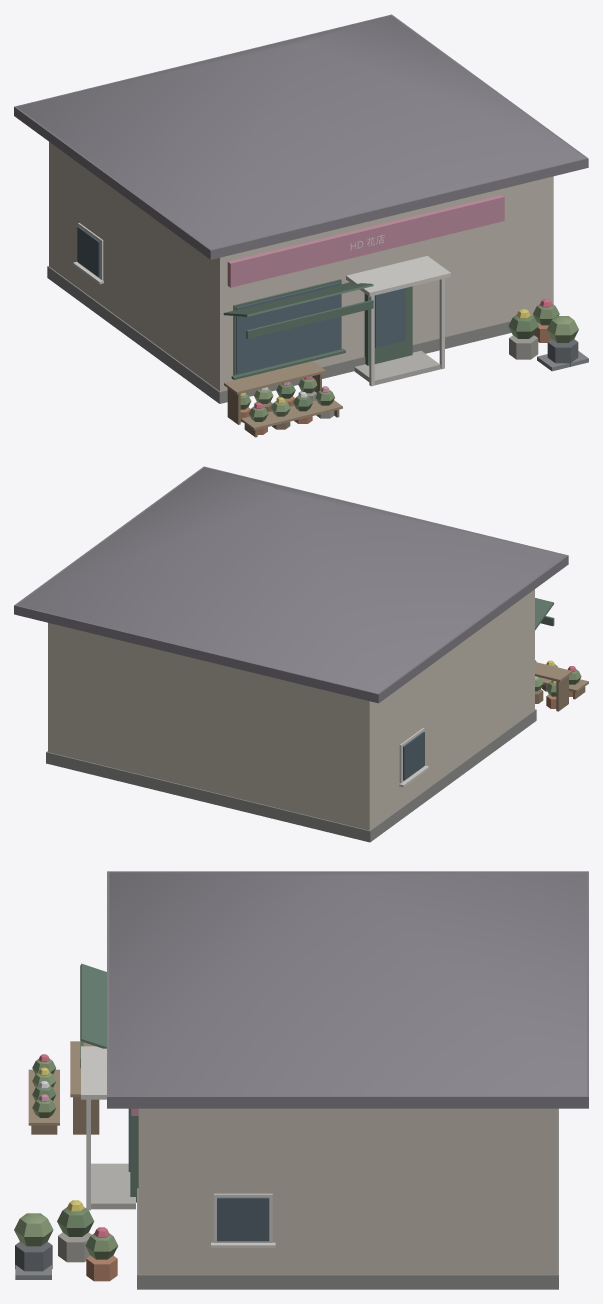
Rendered from shop_flower.glb.
3 views of the same model, one above another, from view 1: azimuth 30°, elevation 25°; view 2: azimuth 150°, elevation 25°; view 3: azimuth 270°, elevation 25° (orthographic). The views are drawn at different scales.
Parts seen in each view (by area): view 1: Static, Sign; view 2: Static; view 3: Static.
Part boxes in pixels (left/top/right/bottom): Static: left=14, top=14, right=588, bottom=437; Sign: left=227, top=194, right=504, bottom=287; Static: left=14, top=466, right=588, bottom=842; Static: left=14, top=871, right=588, bottom=1289.
Bounding box in the file's own units: 10.2 × 6.61 × 10.98.
